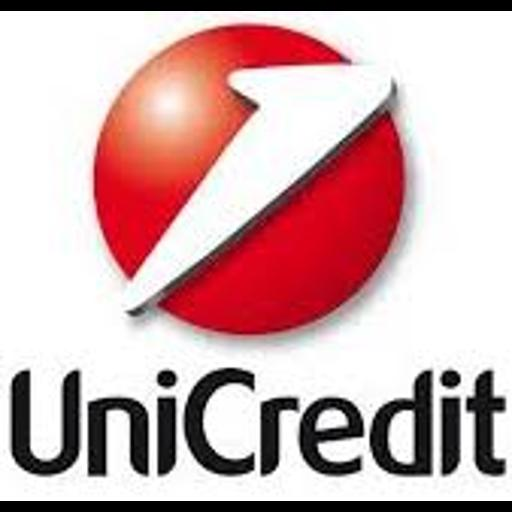UniCredit Bank Aktiengesellschaft: (0, 11, 512, 501)
